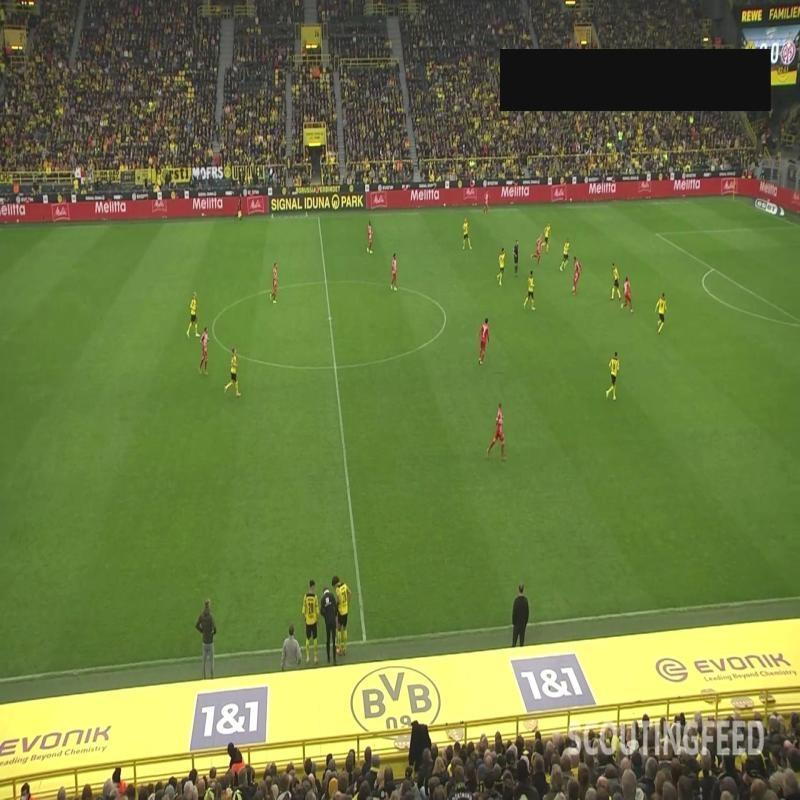1: (726, 193, 740, 207)
10: (706, 262, 720, 276)
13: (312, 210, 326, 224)
14: (319, 276, 333, 290)
15: (327, 360, 341, 374)
16: (356, 631, 372, 651)
2: (795, 222, 800, 231)
9: (650, 226, 664, 240)
c: (438, 305, 453, 323), (206, 323, 219, 337)
